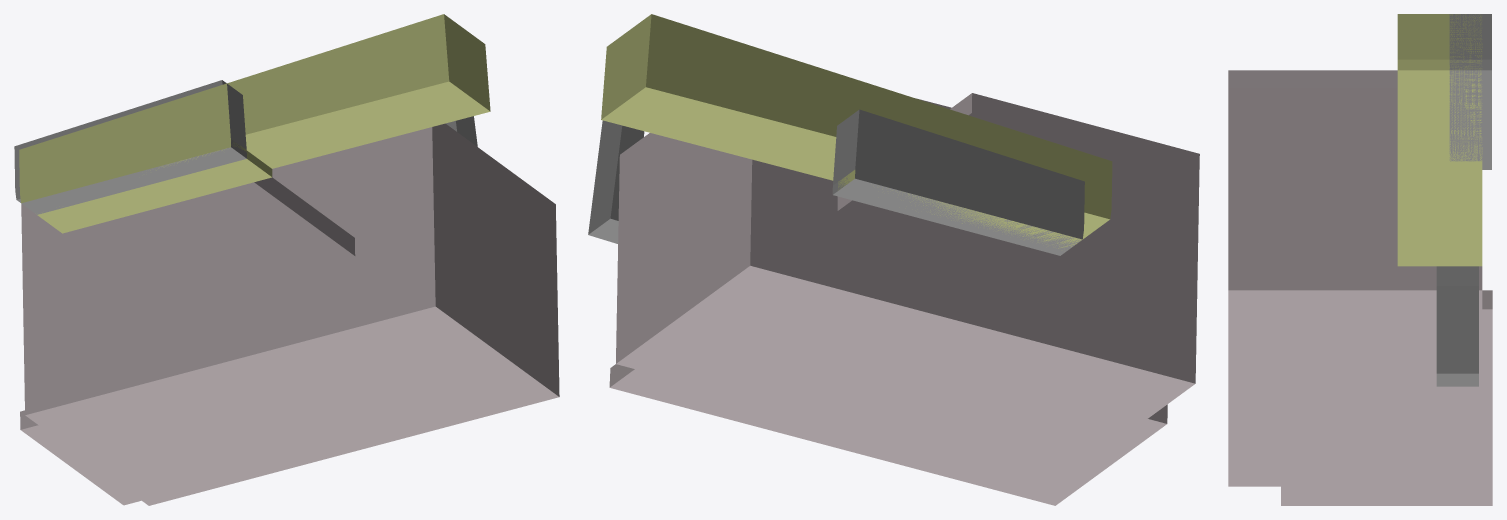
3 views of the same model, side by side, from view 1: azimuth 30°, elevation 25°; view 2: azimuth 150°, elevation 25°; view 3: azimuth 270°, elevation 25° (orthographic). The views are drawn at different scales.
Visible parts, largest first — view 1: 0_1_2_0_3_1_2_3_3; view 2: 0_1_2_0_3_1_2_3_3; view 3: 0_1_2_0_3_1_2_3_3.
Boxes of the visible parts, <box> form: 0_1_2_0_3_1_2_3_3: <box>14,14,559,505</box>; 0_1_2_0_3_1_2_3_3: <box>588,14,1199,505</box>; 0_1_2_0_3_1_2_3_3: <box>1228,14,1492,505</box>.
Size of the model in its own units: 37.22 by 25.45 by 18.73.
